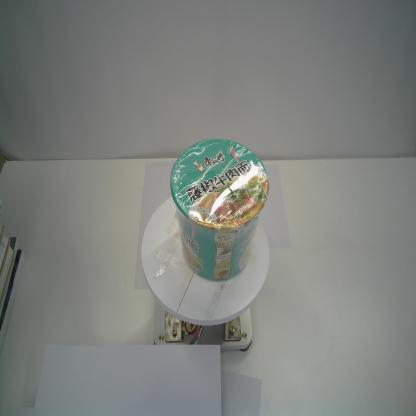Instant Noodles: (169, 137, 271, 284)
